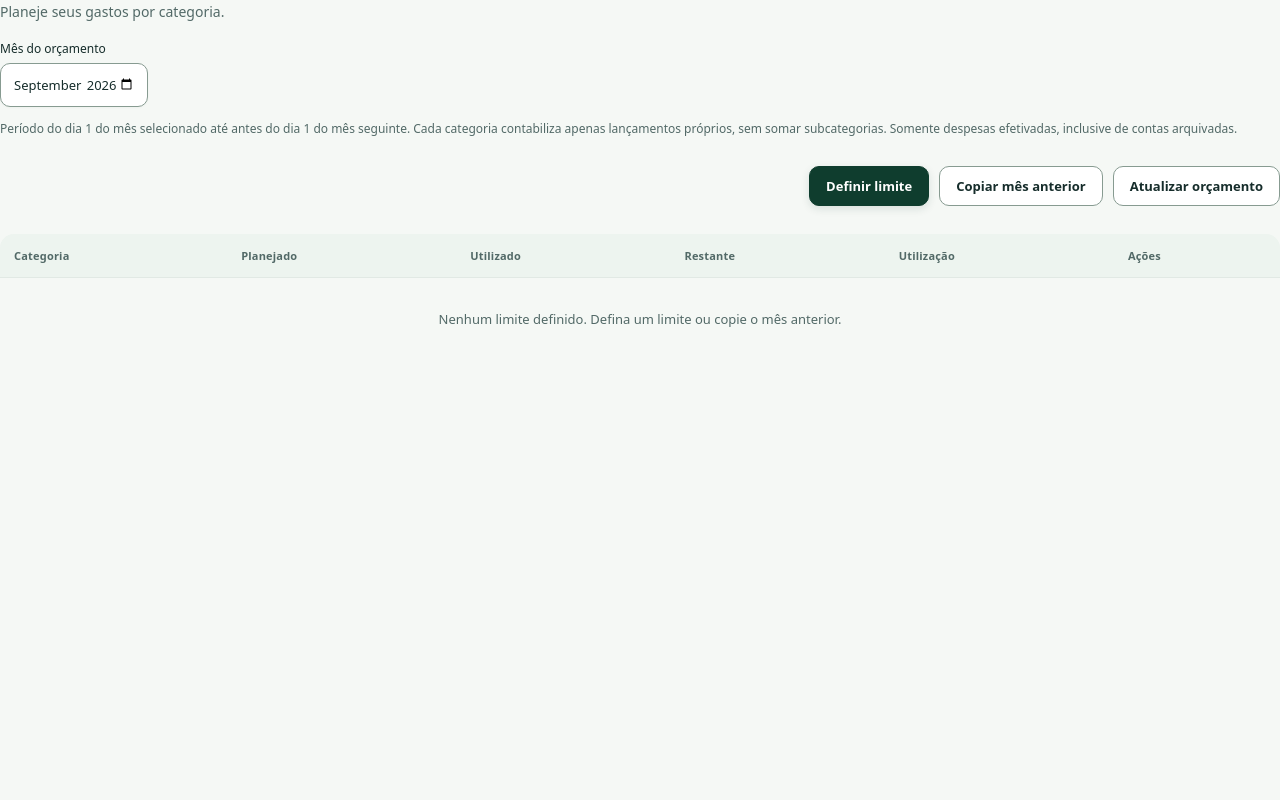
Test: copies previous month and rejects negative amounts
Expected: the text "Nenhum limite definido" is shown, 439,310 -> 841,328
Click the button "Copiar mês anterior".
click(1021, 186)  # box 939,166 -> 1103,206
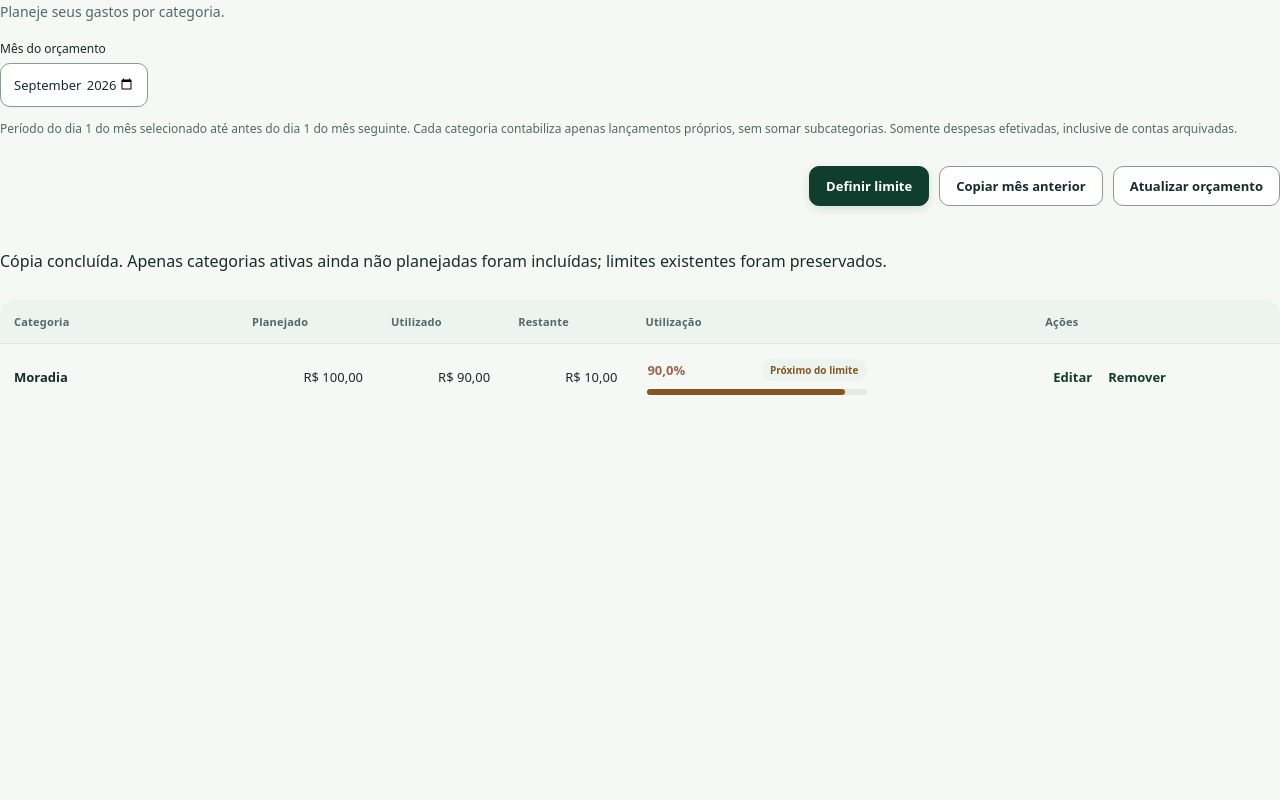
Result: the text "Próximo do limite" is shown at 761,359 -> 867,381
Click the button with aria-label "Editar limite de Moradia".
click(1073, 377)  # box 1045,362 -> 1100,392
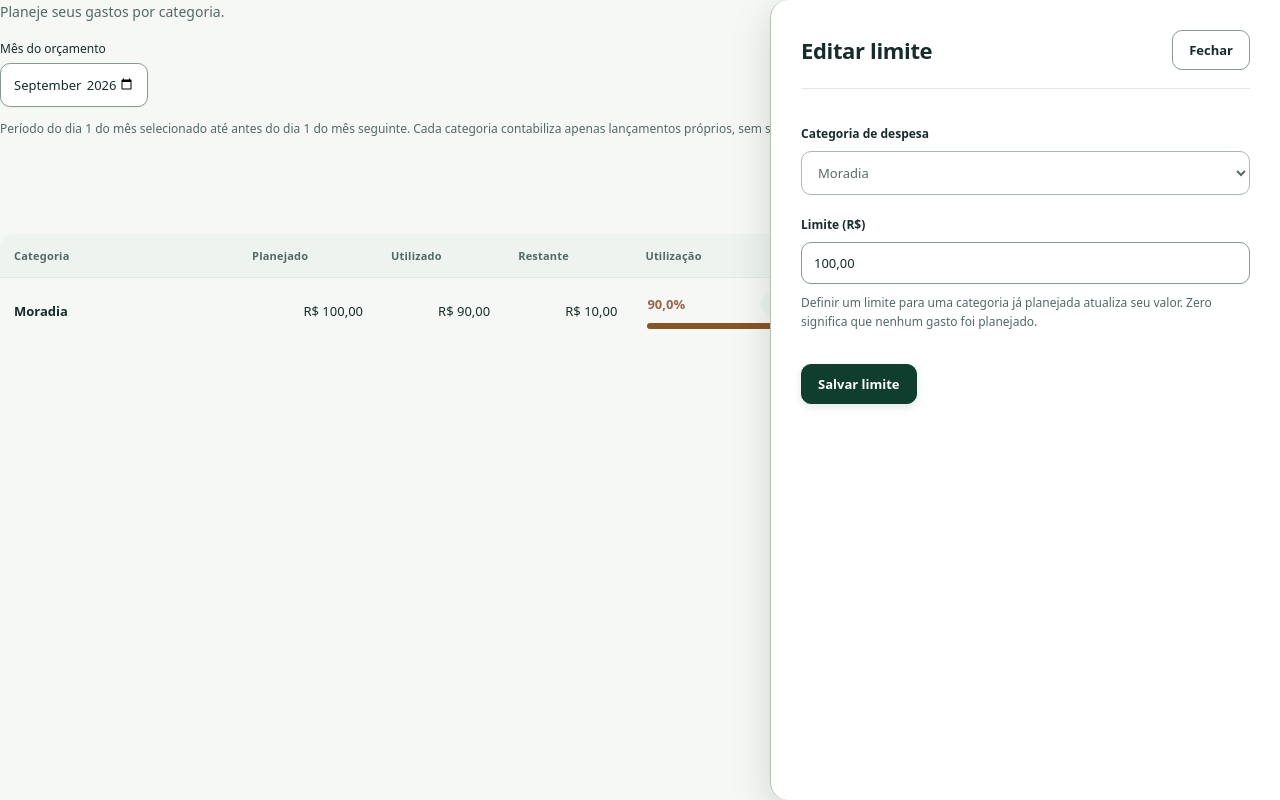
Replace the text in the field labelled "Limite (R$)" with "-1,00" at (1026, 263), box 801,242 -> 1250,284
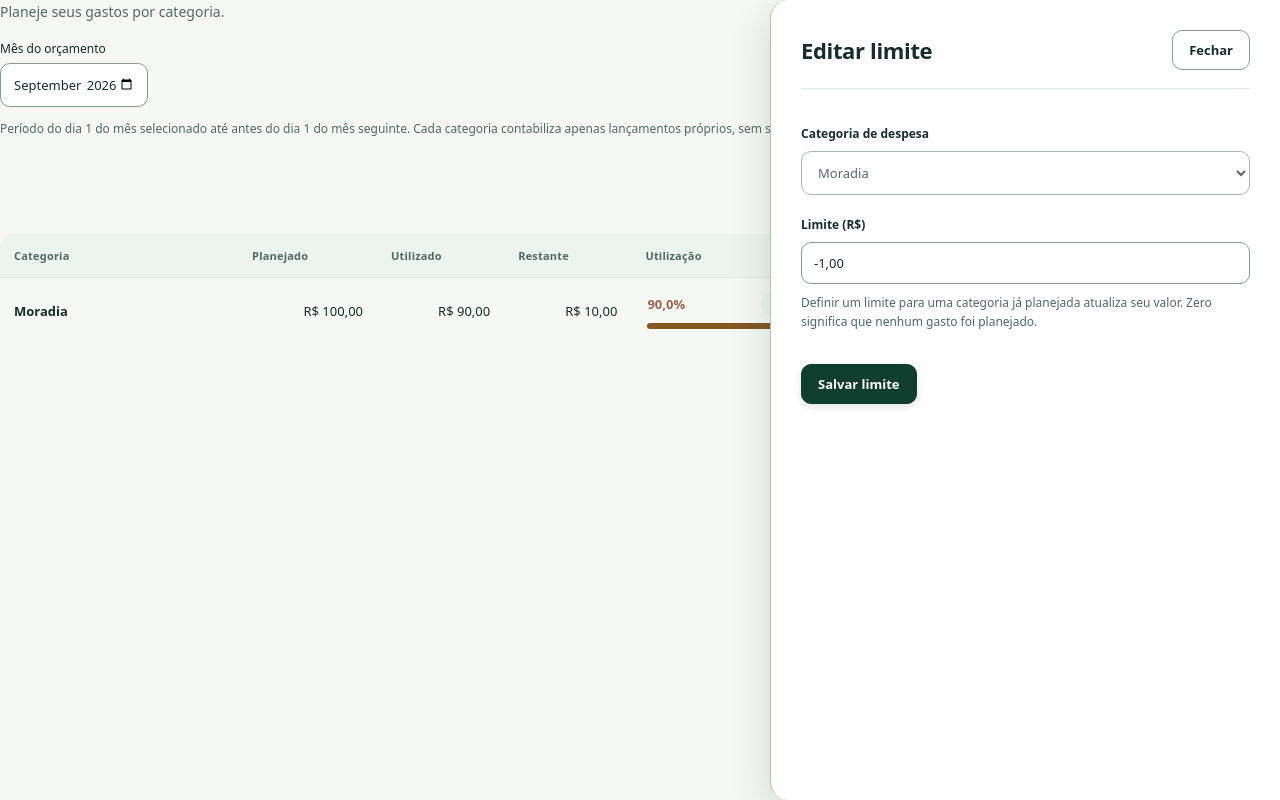
Click the button "Salvar limite".
click(859, 384)  # box 801,364 -> 916,404
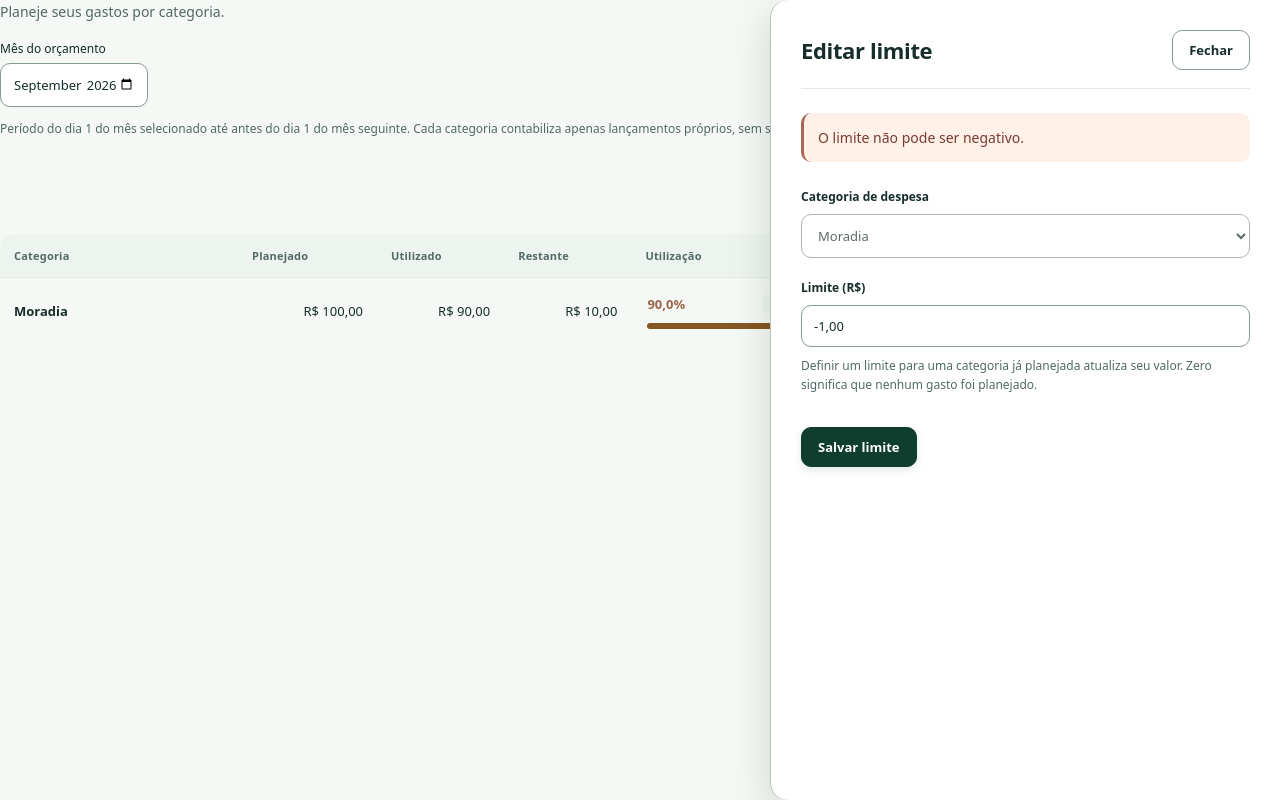
Result: the text "O limite não pode ser negativo." is shown at 801,113 -> 1250,162
